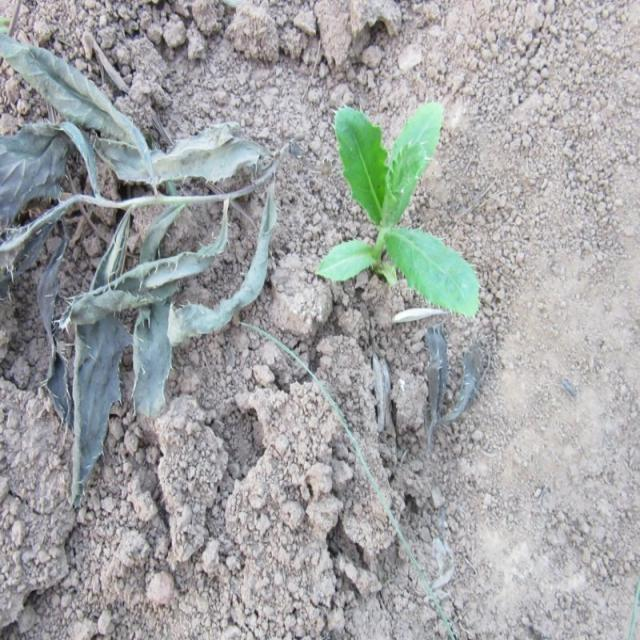cs: (314, 102, 482, 321)
